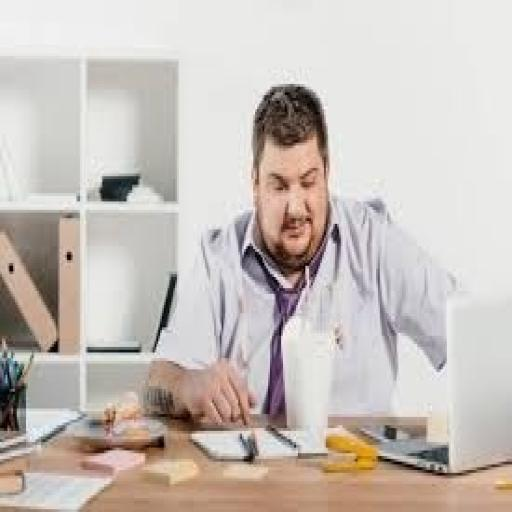eating: (144, 78, 464, 428)
